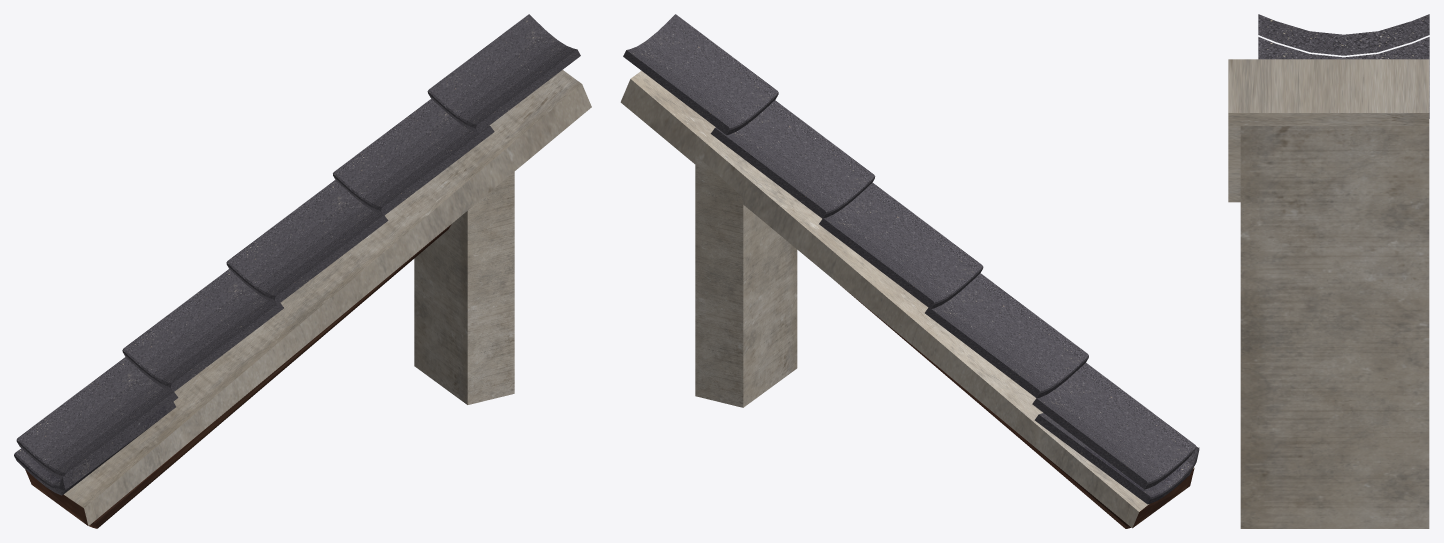
Rendered from SM_Roof_61.fbx.
The picture shows the model from 3 angles, left to right: view 1: azimuth 30°, elevation 25°; view 2: azimuth 150°, elevation 25°; view 3: azimuth 270°, elevation 25°; orthographic projection. The views are drawn at different scales.
Visible parts, largest first — view 1: SM_Roof_61; view 2: SM_Roof_61; view 3: SM_Roof_61.
Boxes of the visible parts, <box> form: SM_Roof_61: <box>14,14,591,528</box>; SM_Roof_61: <box>620,14,1199,528</box>; SM_Roof_61: <box>1228,14,1429,528</box>.
Size of the model in its own units: 226 by 42.56 by 156.
Materials: 4 (4 with a texture image).
